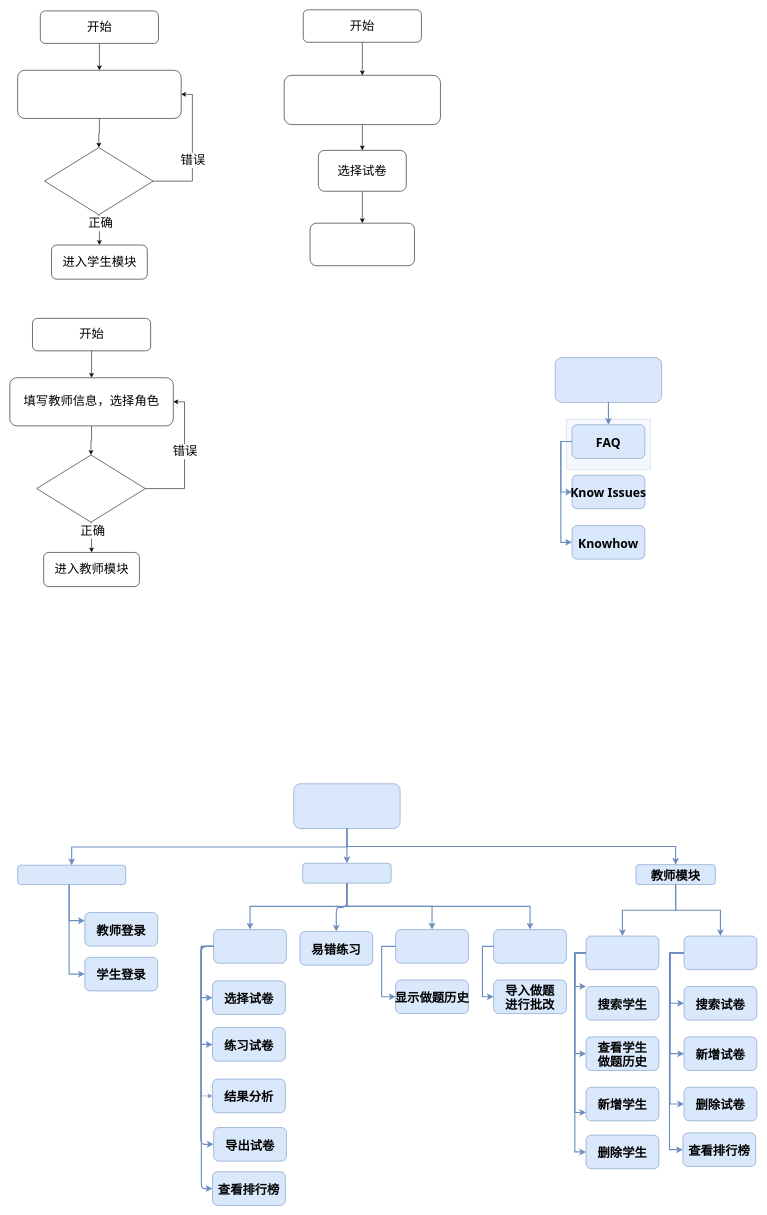
This 767x1215 diagram has some shape labels left out. The shapes that lost their labels are listed below. From the top down, each one's centre as x and y in pixels, then its label:
At pixel 99 94: "填写学生信息，选择角色".
At pixel 362 100: "选择对应的年级，展示试卷列表".
At pixel 98 181: "学生信息 是否正确？".
At pixel 362 244: "进入练习试卷模块".
At pixel 608 379: "Technical Support".
At pixel 90 488: "教师信息 是否正确？".
At pixel 346 806: "口算练习器系统 功能结构图".
At pixel 71 875: "登录模块".
At pixel 346 873: "学生模块".
At pixel 249 946: "在线练习".
At pixel 431 946: "做题历史".
At pixel 529 946: "导入批改".
At pixel 622 952: "学生管理".
At pixel 720 952: "试卷管理".
